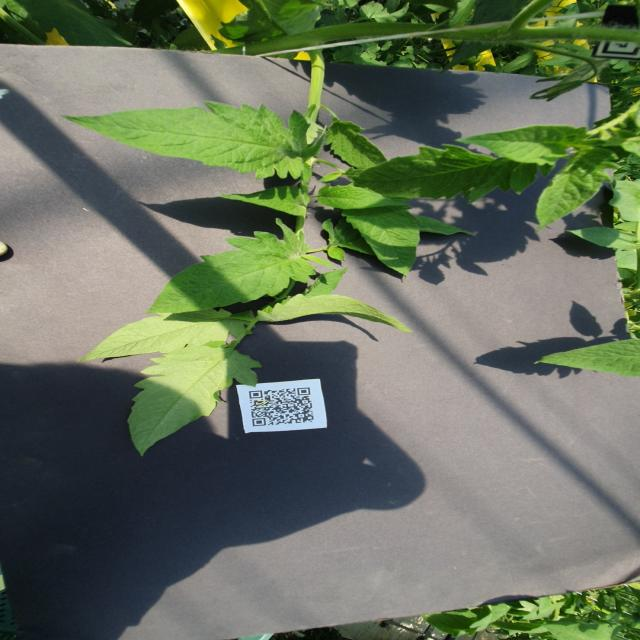Healthy Leaf: (61, 101, 315, 182), (146, 218, 319, 315), (126, 341, 263, 459), (353, 144, 538, 207), (76, 308, 242, 364), (536, 148, 622, 233), (258, 294, 414, 334), (341, 207, 422, 277), (457, 125, 592, 166), (535, 337, 640, 379), (325, 119, 389, 170), (218, 187, 312, 218), (316, 183, 409, 211), (566, 228, 640, 252), (306, 266, 350, 298)
